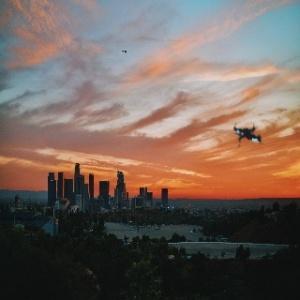drone: (192, 82, 297, 187)
